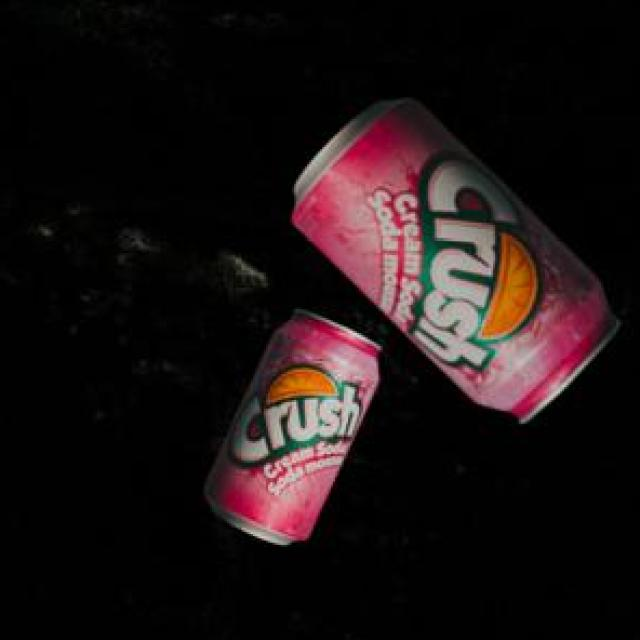logam: (289, 98, 617, 421), (200, 306, 377, 542)
